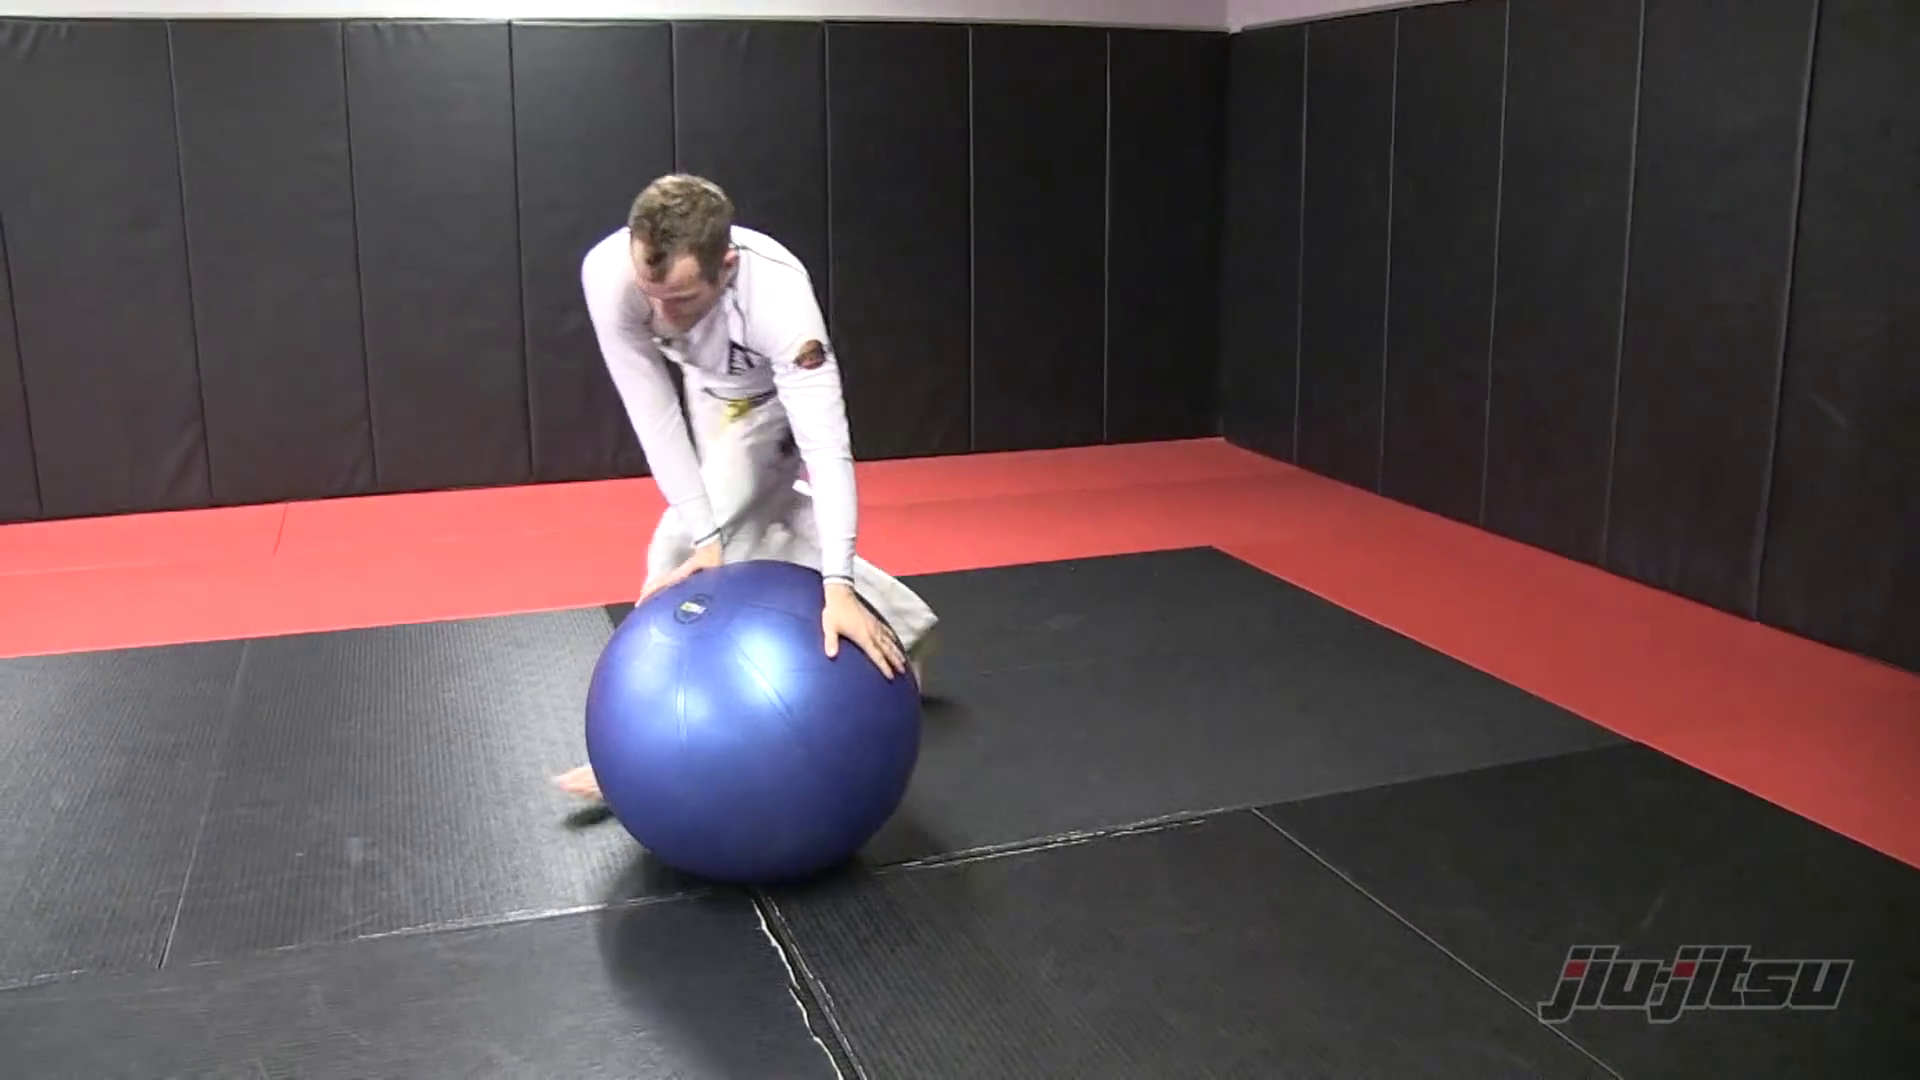yogaball: (570, 543, 938, 895)
